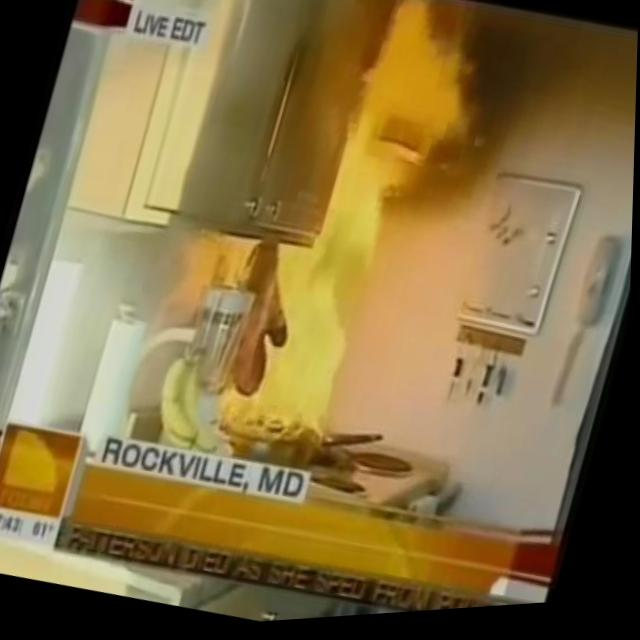fire: (213, 0, 493, 474)
